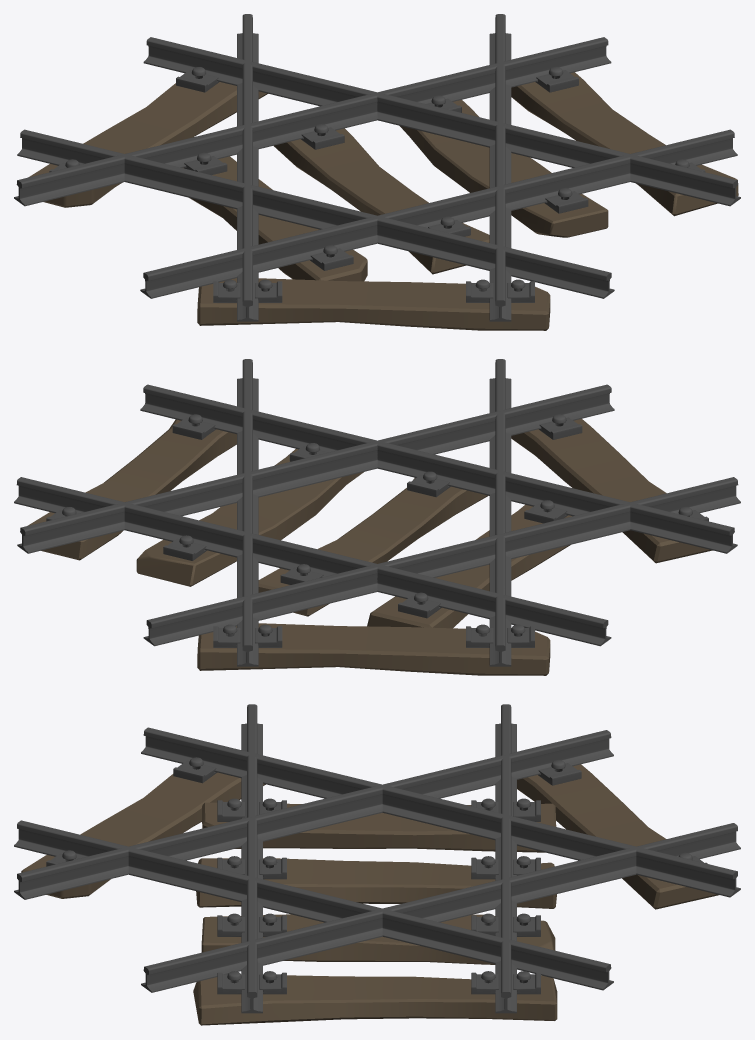
Rendered from SM_railF_v1.fbx.
3 views of the same model, one above another, from view 1: azimuth 30°, elevation 25°; view 2: azimuth 150°, elevation 25°; view 3: azimuth 270°, elevation 25° (orthographic).
Visible parts, largest first — view 1: SM_railF; view 2: SM_railF; view 3: SM_railF.
Boxes of the visible parts, left/top/right/bottom form: SM_railF: left=14, top=14, right=740, bottom=330; SM_railF: left=14, top=359, right=740, bottom=675; SM_railF: left=14, top=704, right=740, bottom=1025.
Size of the model in its own units: 8.66 by 0.6459 by 9.25.
